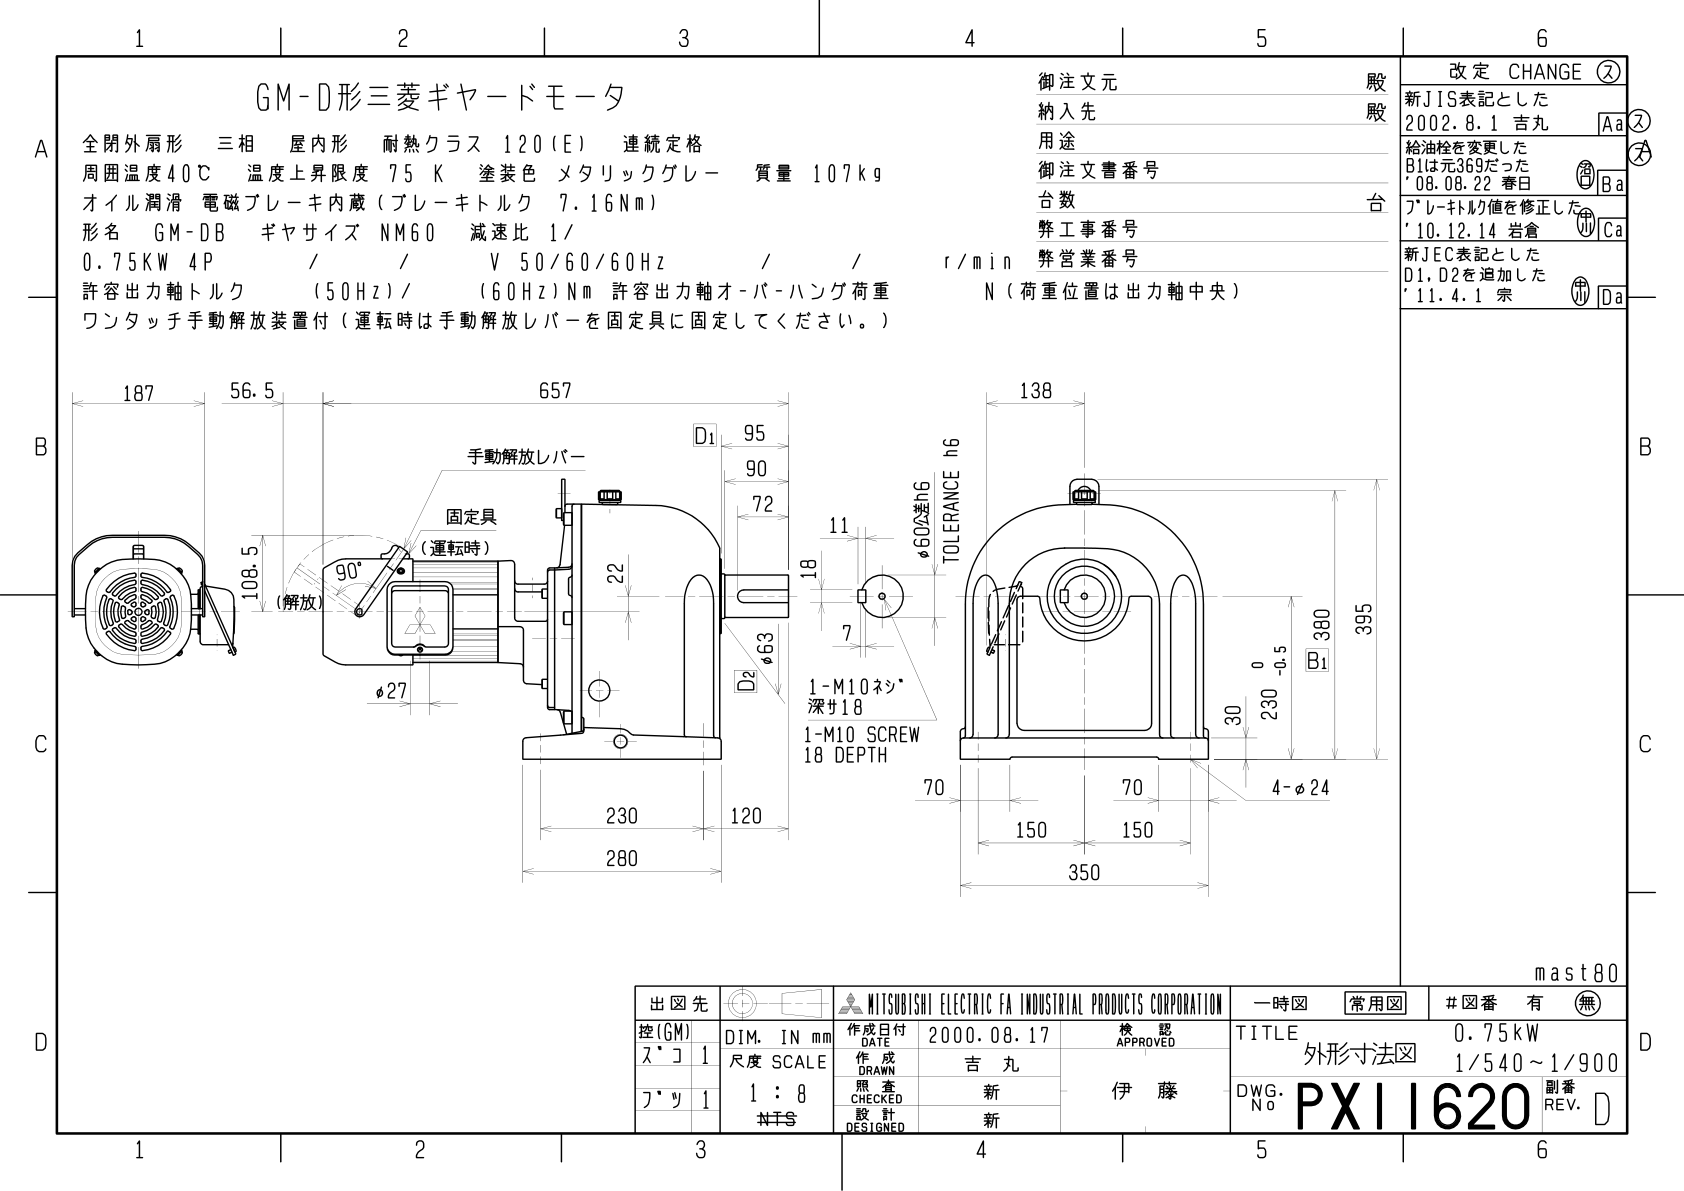GM_D_手動解放ブレーキ＿三相_脚: (1, 1, 1666, 1169)
